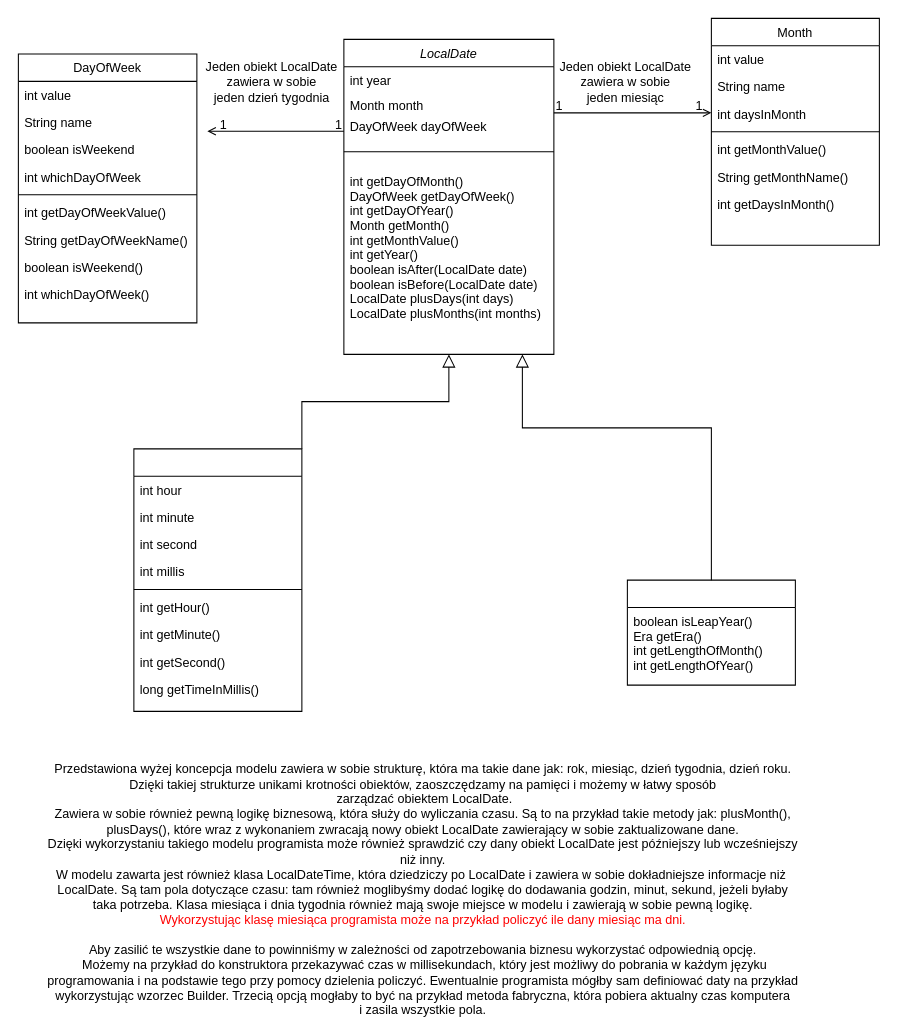
The diagram is 898 pixels wide and 1036 high, and some of its shapes have lost their labels. The box of each missing label's shape, as (x1, y1, x2, y2) in pixels:
ChronoLocalDate: (626, 579, 795, 685)
LocalDateTime: (133, 448, 302, 711)
